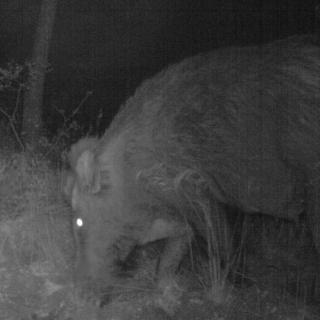Pig: (50, 27, 320, 307)
